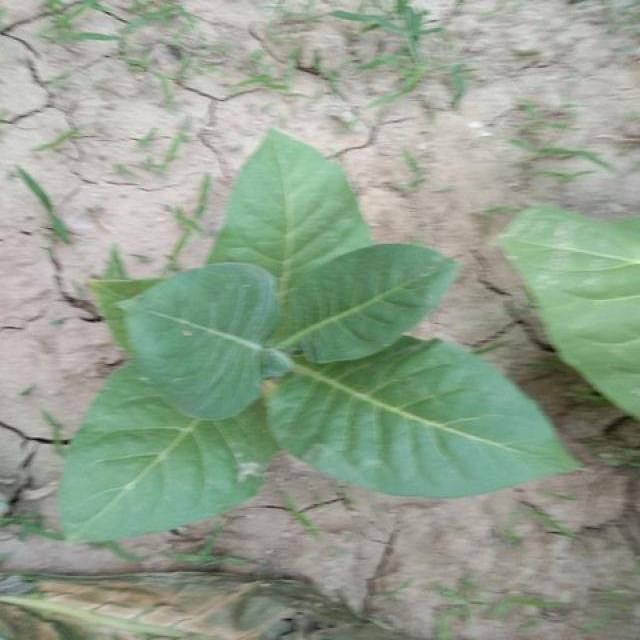crop: (46, 130, 580, 550)
